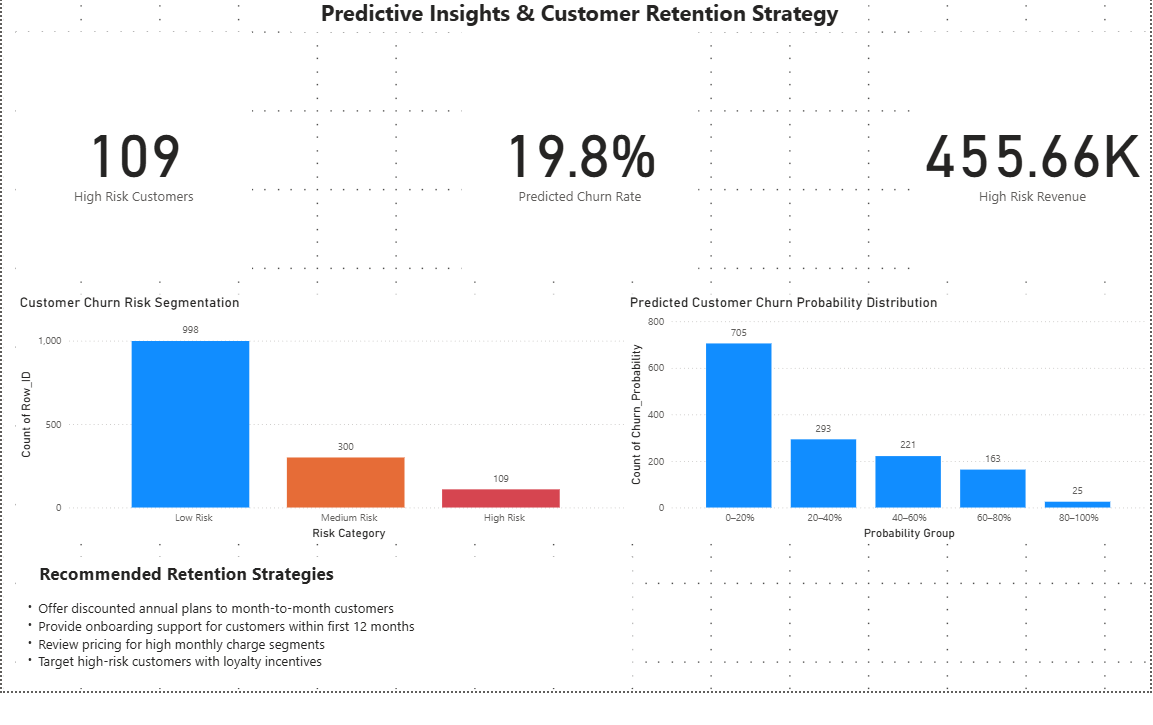

What the dashboard file says about the page in this screenshot:
{"tool":"powerbi","page":{"name":"Predictive Insights & Retention Strategy","canvas":[1400,900],"ordinal":3},"visuals":[{"type":"textbox","box":[352,48,704,48],"z":0},{"type":"card","fields":{"Values":["churn_predictions.High Risk Customers"]},"box":[16,96,288,304],"z":1},{"type":"card","fields":{"Values":["Avg(churn_predictions.Predicted_Churn)"]},"box":[560,96,288,304],"z":2},{"type":"card","fields":{"Values":["churn_predictions.High Risk Revenue"]},"box":[1112,96,288,304],"z":3},{"type":"clusteredColumnChart","title":"Customer Churn Risk Segmentation","fields":{"Category":["churn_predictions.Risk Category"],"Y":["CountNonNull(churn_predictions.Row_ID)"]},"box":[16,416,752,304],"z":4},{"type":"clusteredColumnChart","title":"Predicted Customer Churn Probability Distribution","fields":{"Category":["churn_predictions.Probability Group"],"Y":["CountNonNull(churn_predictions.Churn_Probability)"]},"box":[760,416,640,304],"z":5},{"type":"textbox","box":[16,736,752,160],"z":6}]}

Visuals, with their boxes in screenshot pixels (x1, y1, x2, y2), scaled from the page's 1400x900 canvas onto the 1153x725 screenshot:
textbox: locate(290, 39, 870, 77)
card - churn_predictions.High Risk Customers: locate(13, 77, 250, 322)
card - Avg(churn_predictions.Predicted_Churn): locate(461, 77, 698, 322)
card - churn_predictions.High Risk Revenue: locate(916, 77, 1152, 322)
"Customer Churn Risk Segmentation" clusteredColumnChart: locate(13, 335, 633, 580)
"Predicted Customer Churn Probability Distribution" clusteredColumnChart: locate(626, 335, 1152, 580)
textbox: locate(13, 593, 633, 722)
